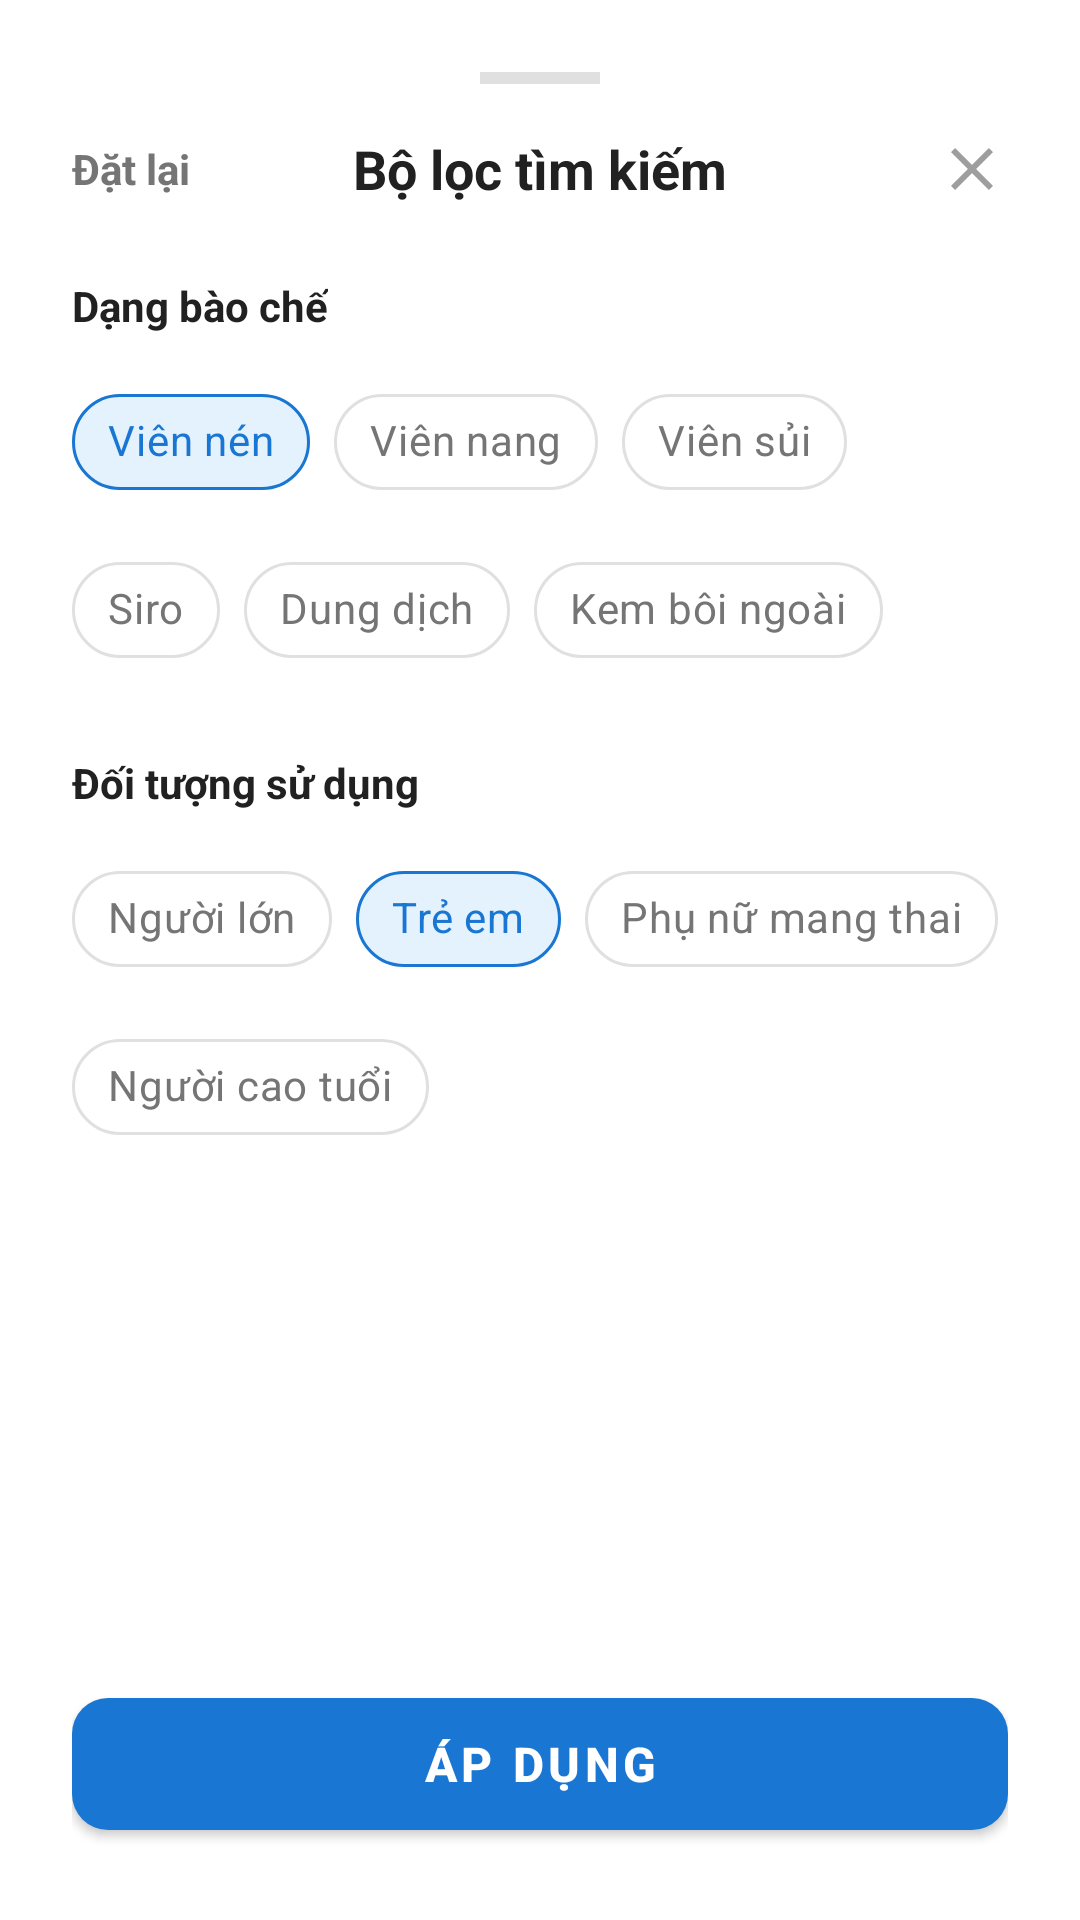

Icon bounding boxes for this 1080w x 1920h phone screenshot, format {"left": x1, "top": y1, "right": x2, "bottom": y2}:
close: {"left": 951, "top": 148, "right": 993, "bottom": 190}
